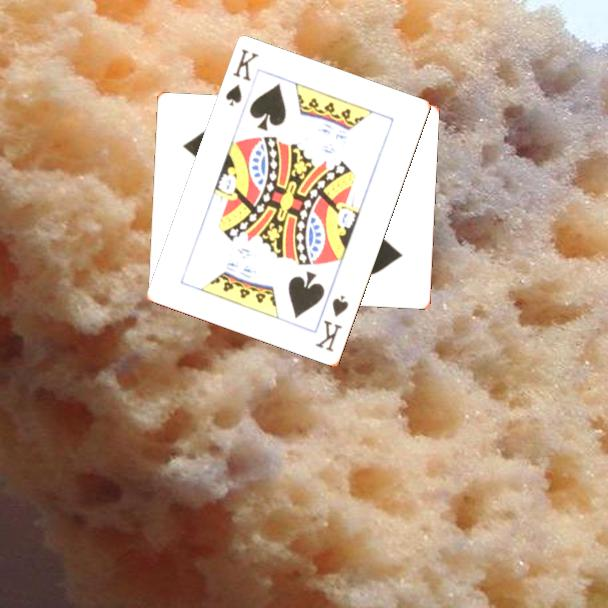s13: (312, 292, 352, 355), (222, 46, 262, 109)
